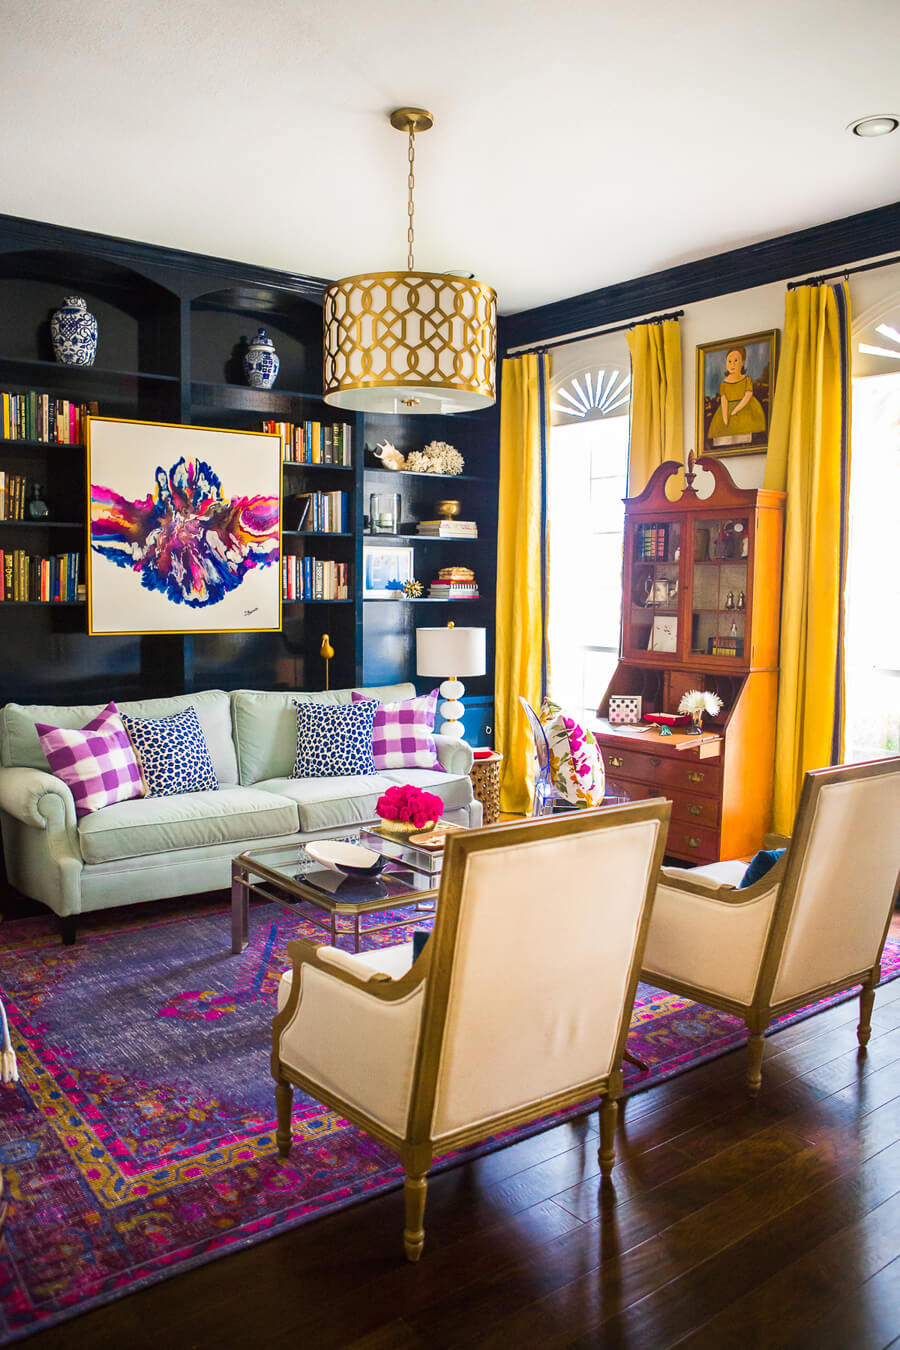coklat: (620, 461, 780, 803)
pink: (378, 783, 443, 825)
putih: (276, 827, 652, 1101), (658, 763, 900, 996), (415, 624, 489, 677)
